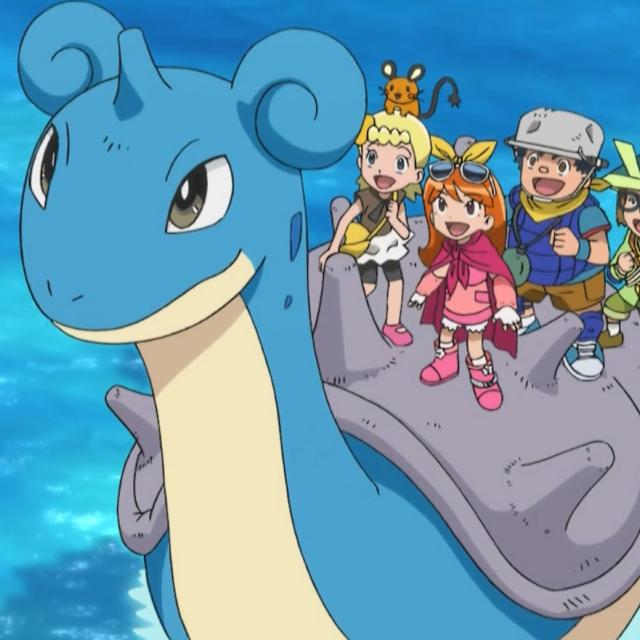Lapras: (9, 16, 472, 640)
